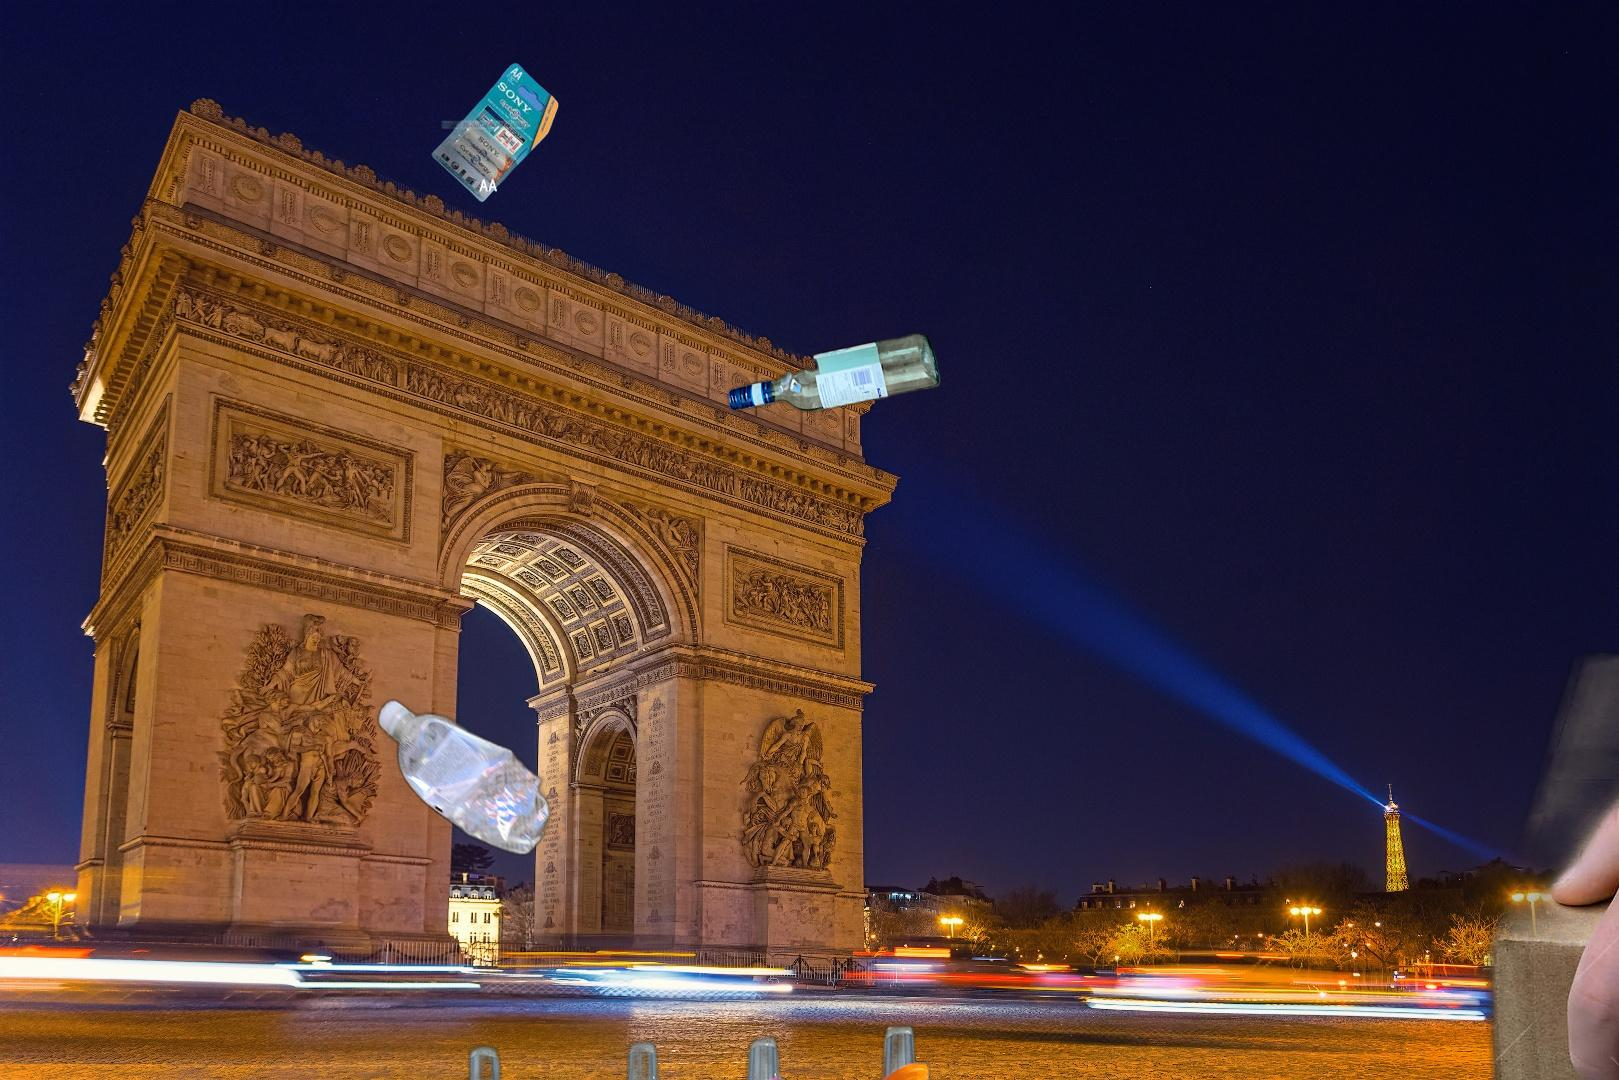battery: (428, 60, 562, 205)
glass: (723, 327, 944, 417)
penholder: (432, 1018, 940, 1080)
plastic-bottles: (374, 626, 819, 1080)
trashbox-cardboard: (1473, 533, 1619, 1080)
